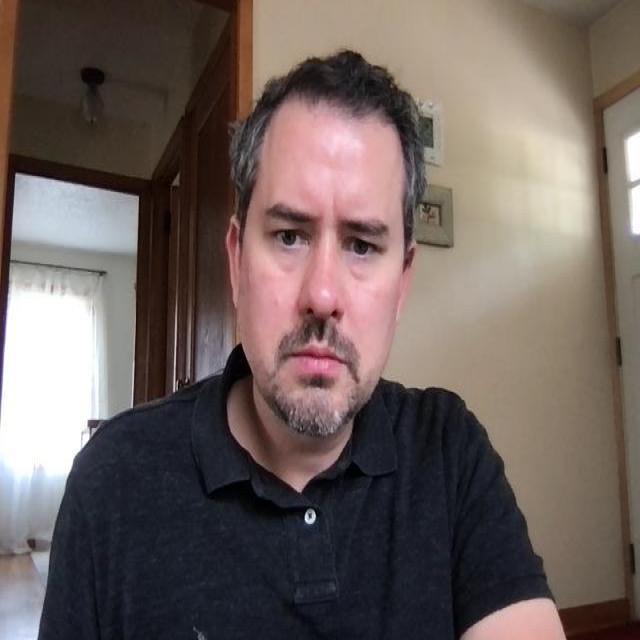face: (228, 52, 423, 448)
